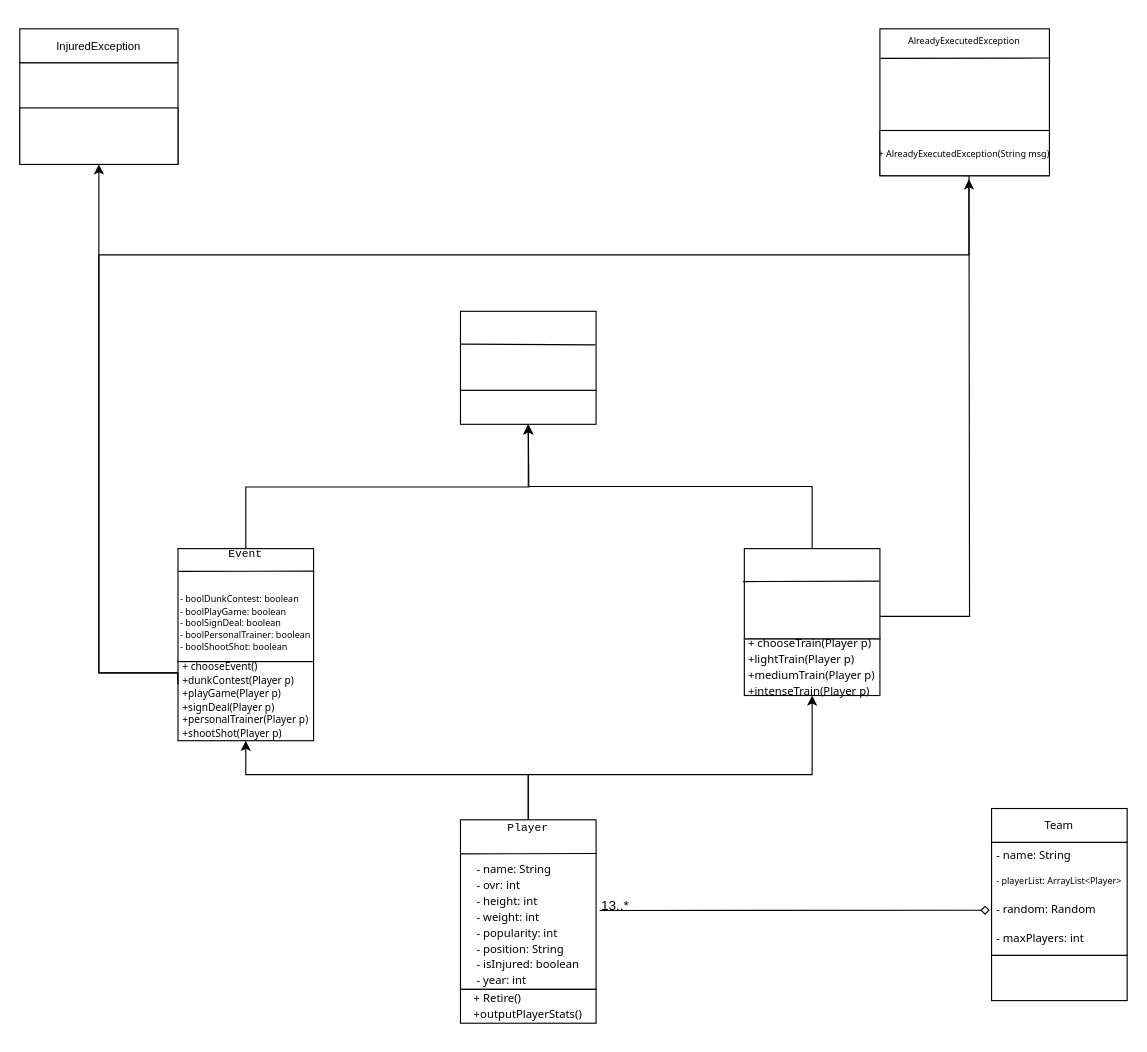
The diagram is 1147 pixels wide and 1052 high, and some of its shapes have lost their labels. The centre of each missing label's shape, as x and y in pixels:
+ chooseTeam(Player p): (x=1058, y=977)
+InjuredException(String msg): (x=98, y=135)
+newYear(Player P): (x=527, y=406)
<<interface>> Action: (x=527, y=350)
Train -totalTrained: int: (x=811, y=593)
